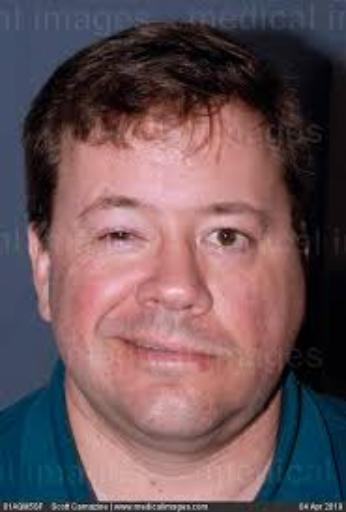left_eye: (202, 225, 256, 257)
left_lip_corner: (205, 348, 227, 367)
right_eye: (95, 225, 149, 253)
right_lip_corner: (111, 330, 141, 354)
